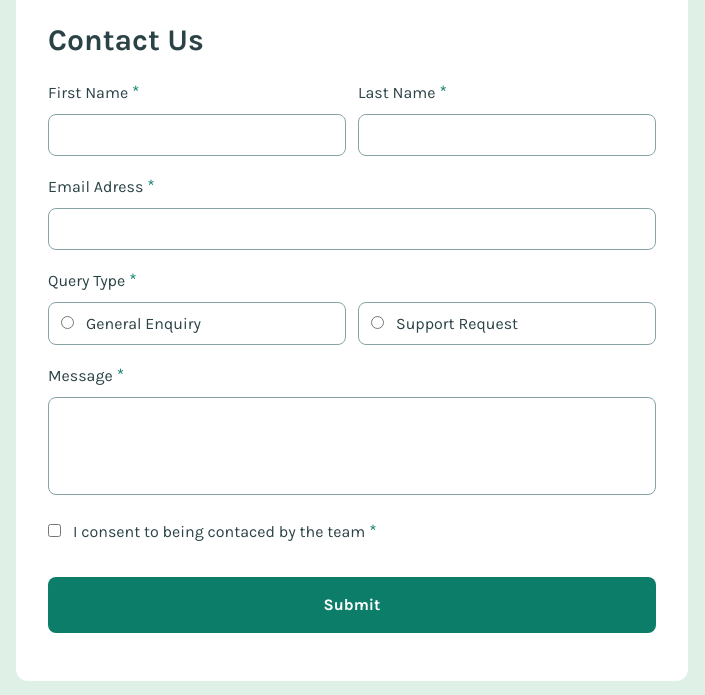
Test case: MyForm › should return :To submit this form, please consent to being contacted , if contact was not checked
Click the button "Submit". click: coordinates (352, 604)
box: x1=48 y1=576 x2=656 y2=632
(page scrolled)
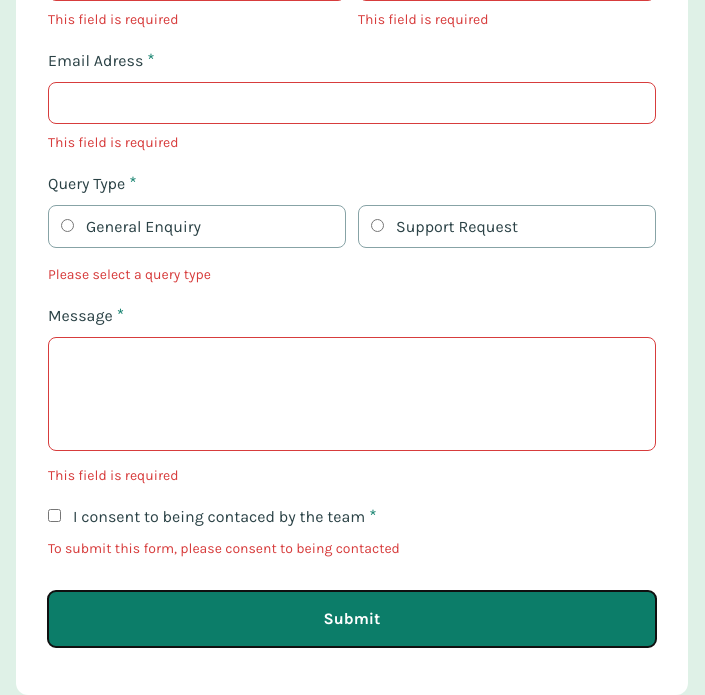
Result: the text "To submit this form, please consent to being contacted" is shown at x1=48 y1=540 x2=400 y2=557
